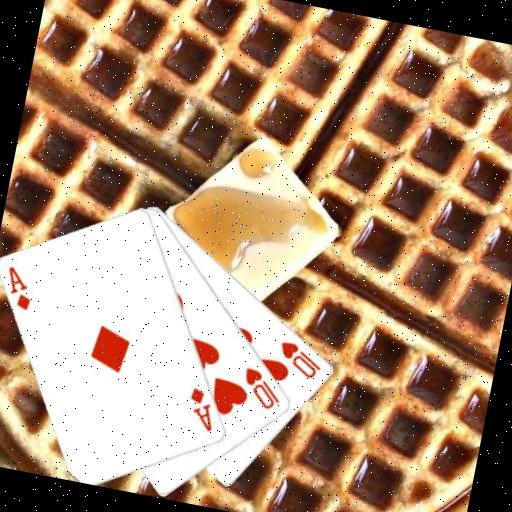10H: (236, 363, 287, 413), (272, 336, 327, 382)
AD: (182, 384, 222, 435), (0, 263, 38, 313)
